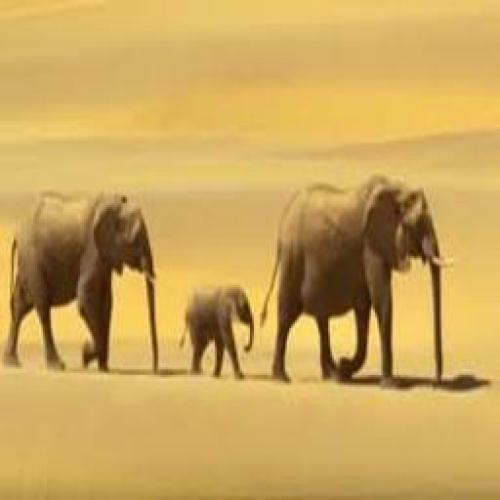african_elephant-endangered: (259, 173, 461, 391), (0, 187, 166, 383), (179, 280, 260, 384)
